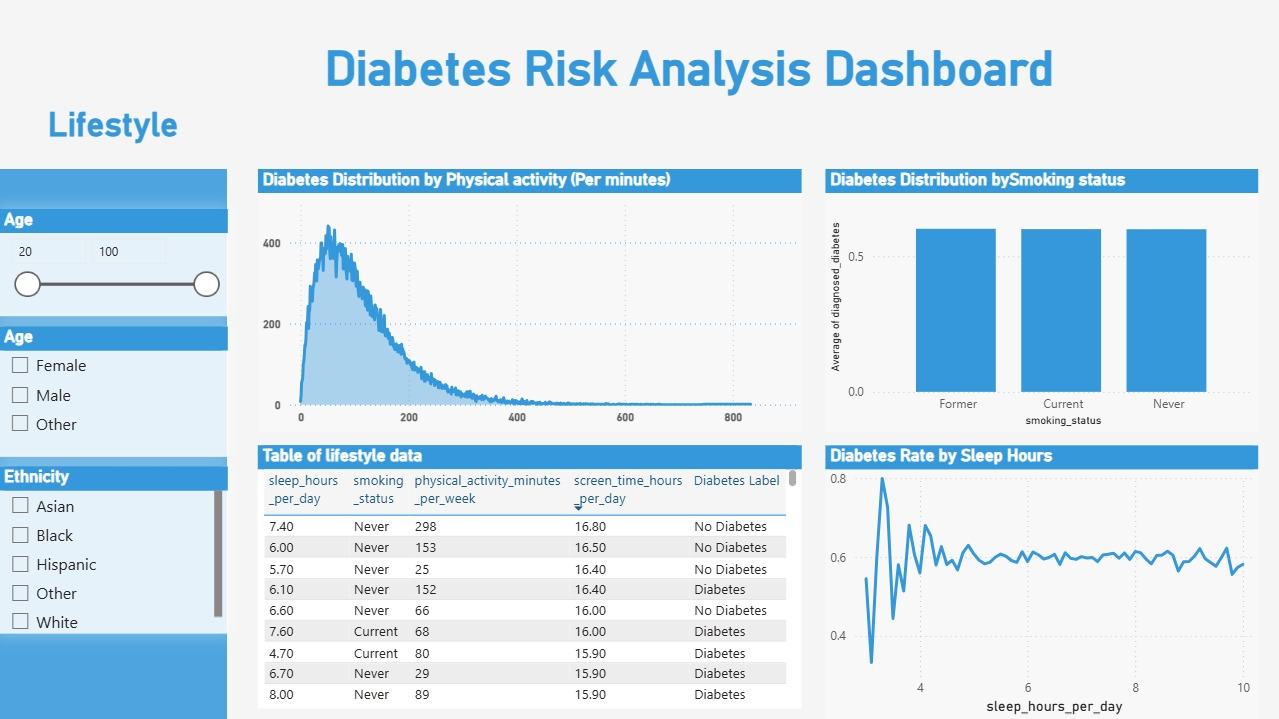

What the dashboard file says about the page in this screenshot:
{"tool":"powerbi","page":{"name":"Lifestyle","canvas":[1280,720],"ordinal":1},"visuals":[{"type":"shape","box":[0,170,228.3,550],"z":0},{"type":"textbox","box":[258,35.7,865.9,90.6],"z":1000},{"type":"textbox","box":[0,101.7,228.3,50],"z":2000},{"type":"clusteredColumnChart","title":" Diabetes Distribution bySmoking status ","fields":{"Category":["New_data.smoking_status"],"Y":["Avg(New_data.diagnosed_diabetes)"]},"box":[825.7,170,432.9,262.9],"z":3000},{"type":"areaChart","title":" Diabetes Distribution by Physical activity (Per minutes) ","fields":{"Y":["Sum(New_data.diagnosed_diabetes)"],"Category":["New_data.physical_activity_minutes_per_week"]},"box":[258.6,170,544.3,262.9],"z":4000},{"type":"slicer","title":"Age ","fields":{"Values":["New_data.age_category"]},"box":[0,210,228.6,107.1],"z":5000},{"type":"lineChart","title":"Diabetes Rate by Sleep Hours","fields":{"Category":["New_data.sleep_hours_per_day"],"Y":["Avg(New_data.diagnosed_diabetes)"]},"box":[825.7,445.7,432.9,274.3],"z":6000},{"type":"slicer","title":"Age ","fields":{"Values":["New_data.gender"]},"box":[0,327.1,228.6,130],"z":7000},{"type":"tableEx","title":"Table of lifestyle data","fields":{"Values":["New_data.sleep_hours_per_day","New_data.smoking_status","New_data.physical_activity_minutes_per_week","New_data.screen_time_hours_per_day","New_data.Diabetes Label"]},"box":[258.6,445.7,544.3,262.9],"z":8000},{"type":"slicer","title":"Ethnicity","fields":{"Values":["New_data.ethnicity"]},"box":[0,467.1,228.6,167.1],"z":9000}]}

Visuals, with their boxes in screenshot pixels (x1, y1, x2, y2), scaled from the page's 1280x720 canvas onto the 1279x719 screenshot:
shape: <bbox>0, 170, 228, 718</bbox>
textbox: <bbox>258, 36, 1123, 126</bbox>
textbox: <bbox>0, 102, 228, 151</bbox>
" Diabetes Distribution bySmoking status " clusteredColumnChart: <bbox>825, 170, 1258, 432</bbox>
" Diabetes Distribution by Physical activity (Per minutes) " areaChart: <bbox>258, 170, 802, 432</bbox>
"Age " slicer: <bbox>0, 210, 228, 317</bbox>
"Diabetes Rate by Sleep Hours" lineChart: <bbox>825, 445, 1258, 718</bbox>
"Age " slicer: <bbox>0, 327, 228, 456</bbox>
"Table of lifestyle data" tableEx: <bbox>258, 445, 802, 708</bbox>
"Ethnicity" slicer: <bbox>0, 466, 228, 633</bbox>
